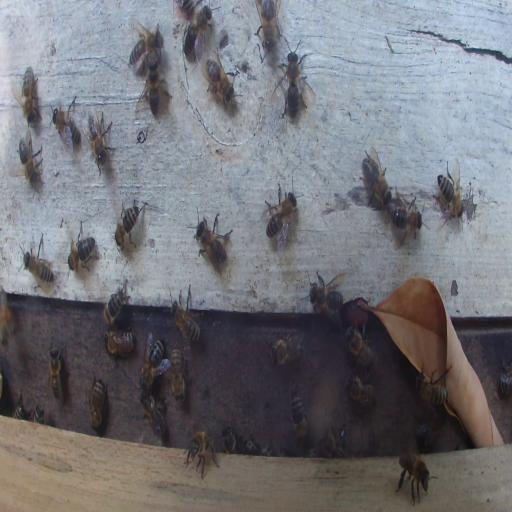bee: (190, 210, 234, 272), (266, 182, 300, 255), (277, 50, 310, 121), (361, 147, 393, 208), (396, 451, 432, 505), (182, 4, 216, 60), (184, 426, 220, 478), (171, 284, 201, 346), (88, 108, 116, 174), (21, 233, 54, 289), (436, 159, 464, 222), (50, 97, 82, 151), (390, 193, 423, 245), (310, 273, 344, 322), (128, 21, 162, 69), (67, 222, 97, 274), (204, 55, 235, 104), (113, 202, 144, 251), (267, 329, 304, 367), (139, 336, 165, 390), (19, 136, 43, 194), (17, 64, 39, 126), (345, 324, 374, 371), (102, 281, 130, 328), (140, 60, 162, 117), (416, 368, 447, 408), (141, 392, 167, 437), (287, 390, 308, 442), (344, 372, 376, 405), (256, 0, 279, 45), (104, 328, 136, 358), (89, 377, 106, 430), (320, 426, 347, 458), (0, 285, 13, 349), (170, 346, 185, 401), (414, 422, 442, 451), (49, 345, 63, 401), (13, 394, 34, 420), (221, 424, 237, 454), (500, 361, 511, 397), (243, 438, 265, 454), (33, 405, 44, 422)
